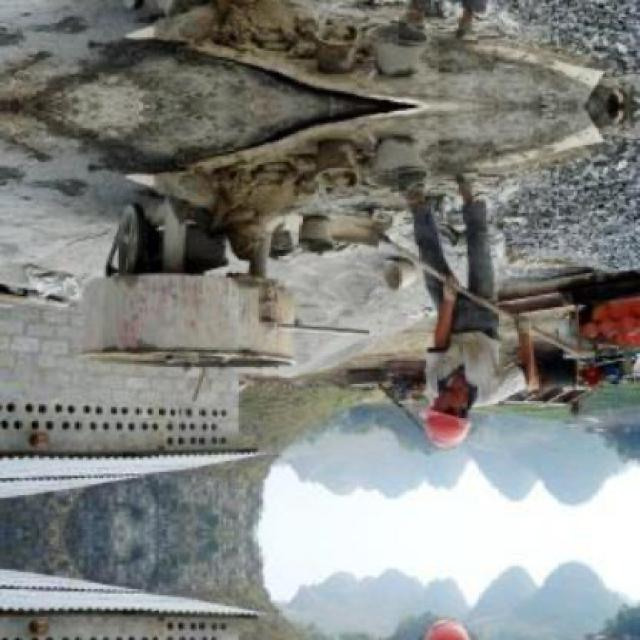con casco: (404, 375, 486, 450)
